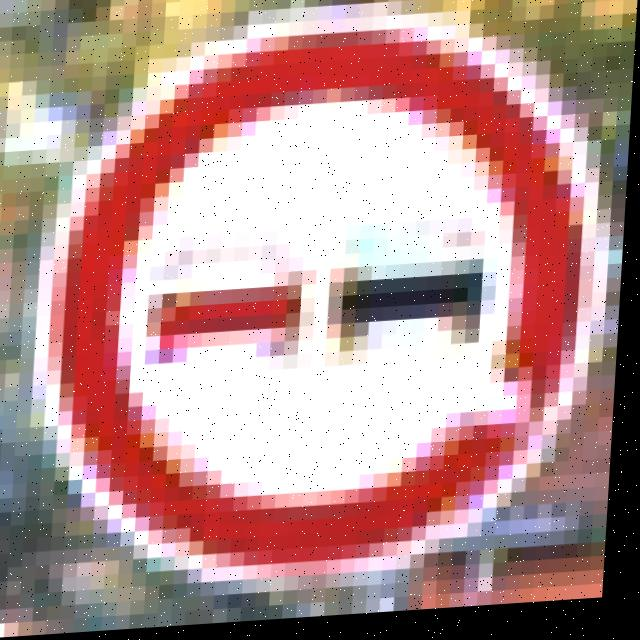no_overtaking: (54, 0, 627, 546)
